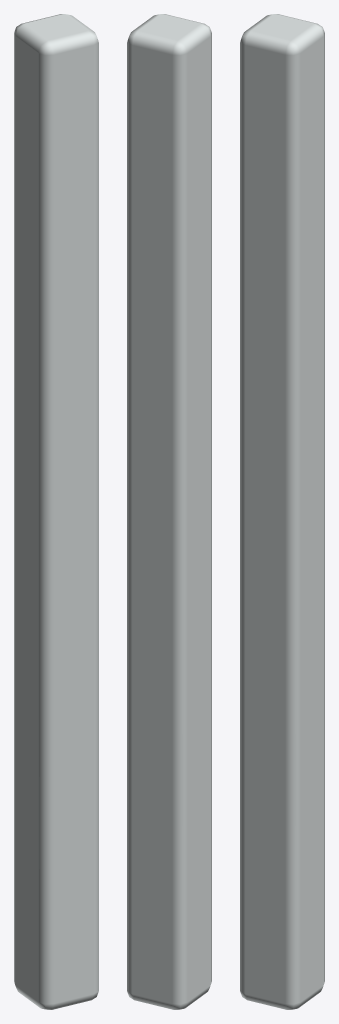
The model's file is glass-post.glb.
3 renders of one model, left to right at view 1: azimuth 30°, elevation 25°; view 2: azimuth 150°, elevation 25°; view 3: azimuth 330°, elevation 25°, orthographic.
Visible parts, largest first — view 1: part; view 2: part; view 3: part.
Boxes of the visible parts, x1,y1,x2,y2 form: part: [14, 14, 98, 1009]; part: [127, 14, 211, 1009]; part: [240, 14, 324, 1009].
Size of the model in its own units: 0.18 by 2.8 by 0.18.
1 material, 1 textured.
